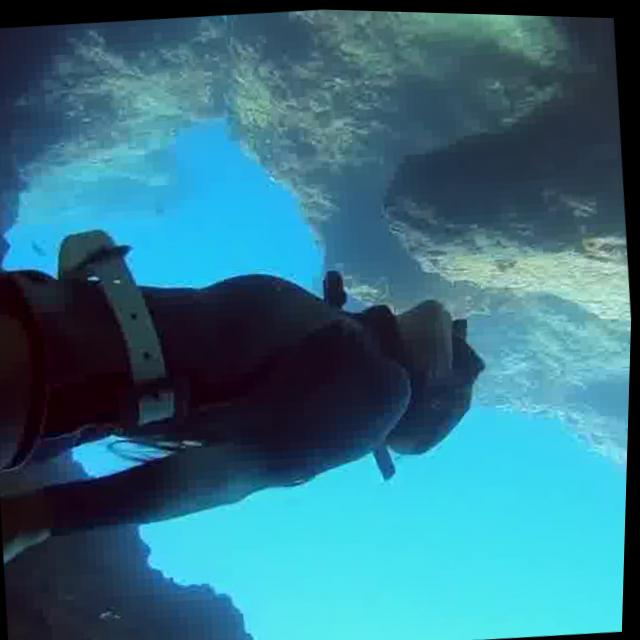human: (0, 186, 578, 631)
